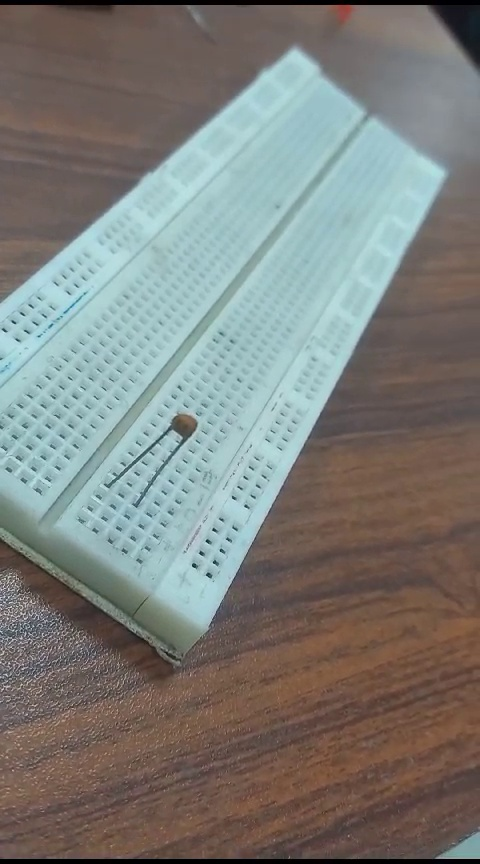ceramic capacitor: (104, 399, 207, 517)
